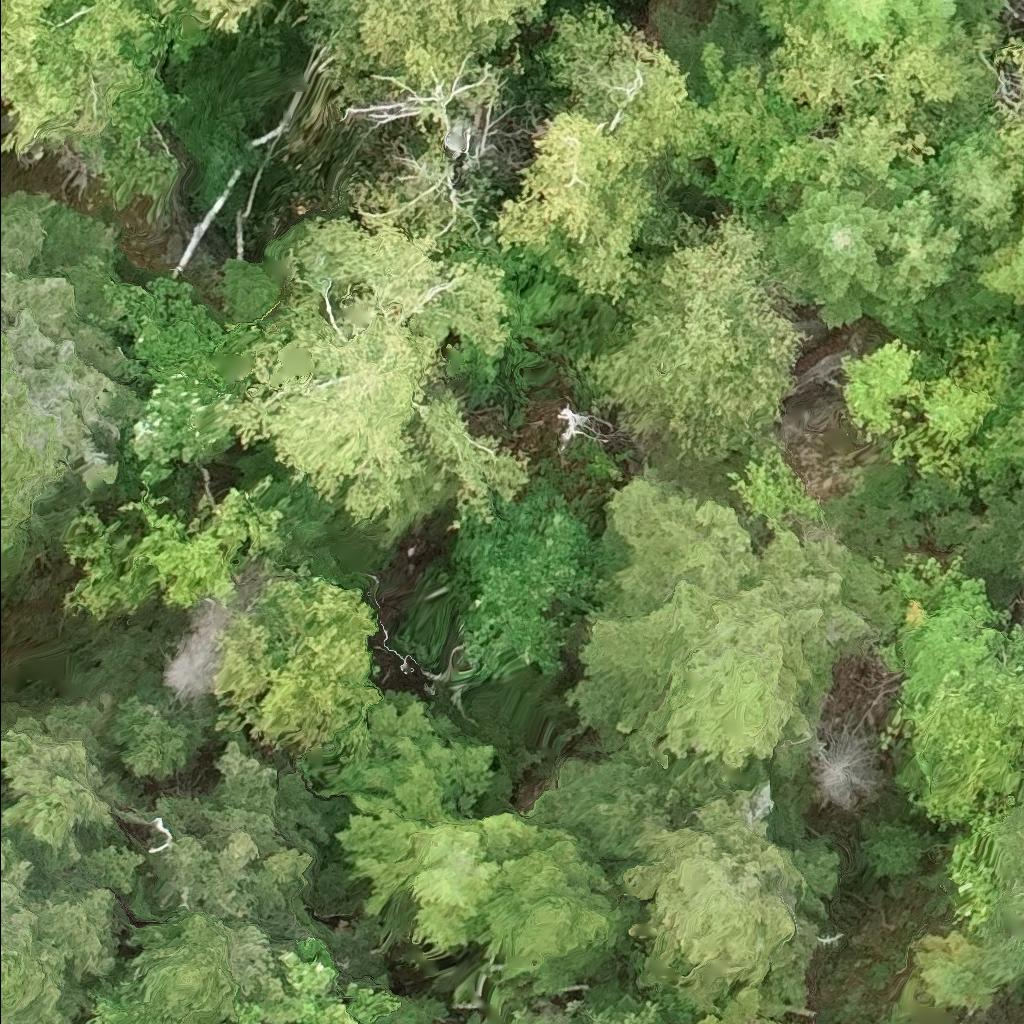crown: (303, 0, 552, 84), (764, 180, 889, 322), (154, 0, 261, 32)
